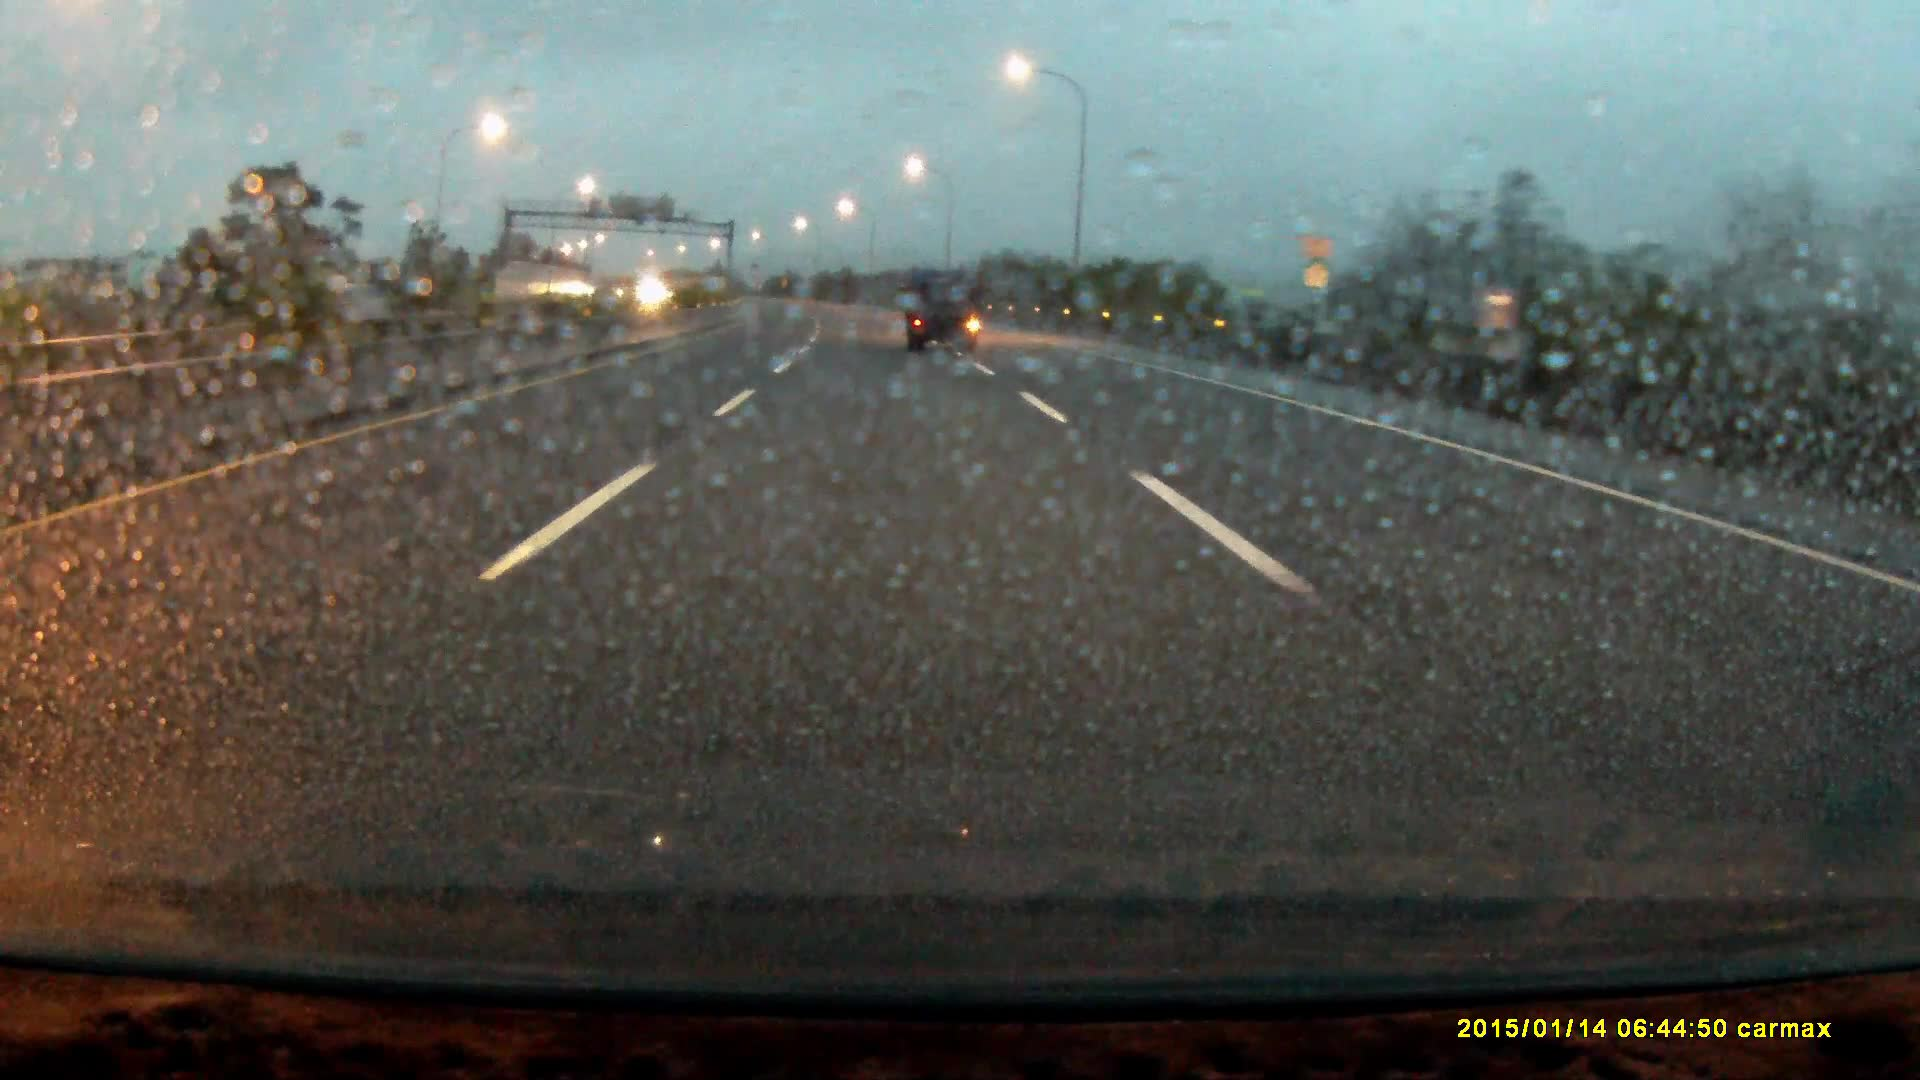vehicle: (905, 272, 982, 355)
